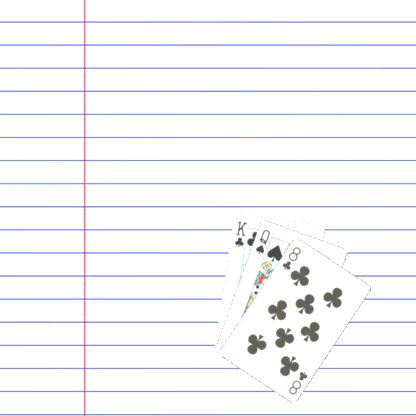8C: (279, 244, 302, 272), (286, 368, 309, 396)
KC: (232, 218, 250, 252)
QS: (253, 226, 271, 255)
